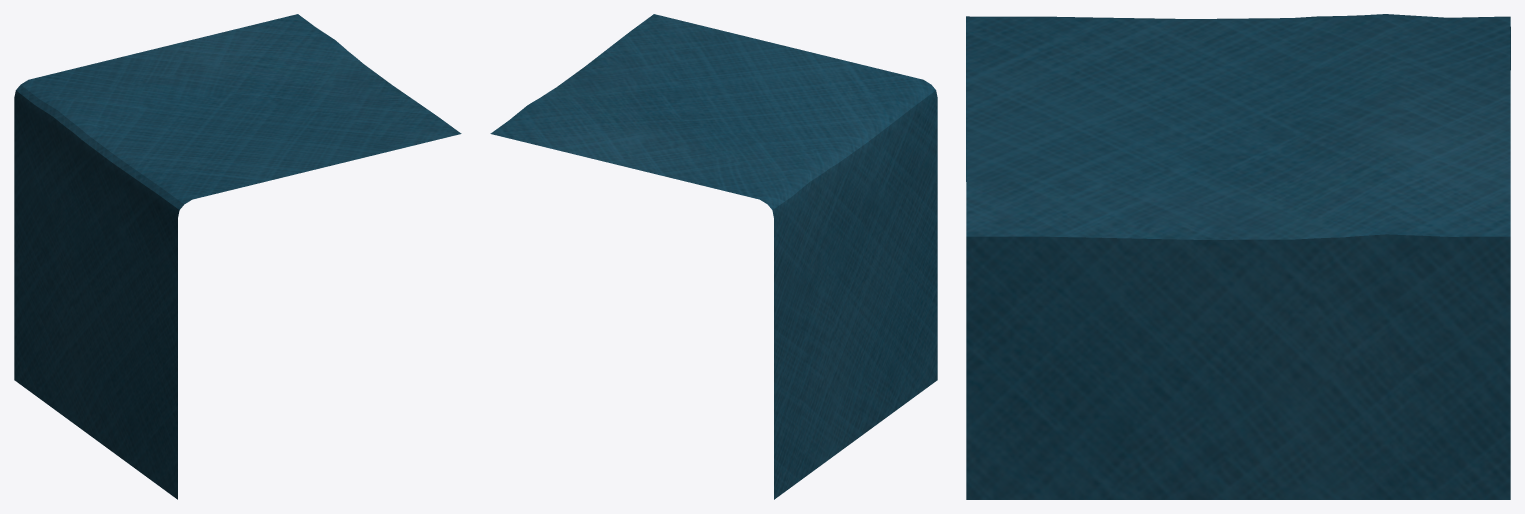
Rendered from tl_mid0.FBX.
3 renders of one model, left to right at view 1: azimuth 30°, elevation 25°; view 2: azimuth 150°, elevation 25°; view 3: azimuth 270°, elevation 25°, orthographic. The views are drawn at different scales.
Parts seen in each view (by area): view 1: tl_mid0_FINAL; view 2: tl_mid0_FINAL; view 3: tl_mid0_FINAL.
Boxes of the visible parts, bbox=[...] form: tl_mid0_FINAL: bbox=[14, 14, 461, 499]; tl_mid0_FINAL: bbox=[490, 14, 937, 499]; tl_mid0_FINAL: bbox=[966, 14, 1510, 499].
Bounding box in the file's own units: 100 × 100 × 100.
